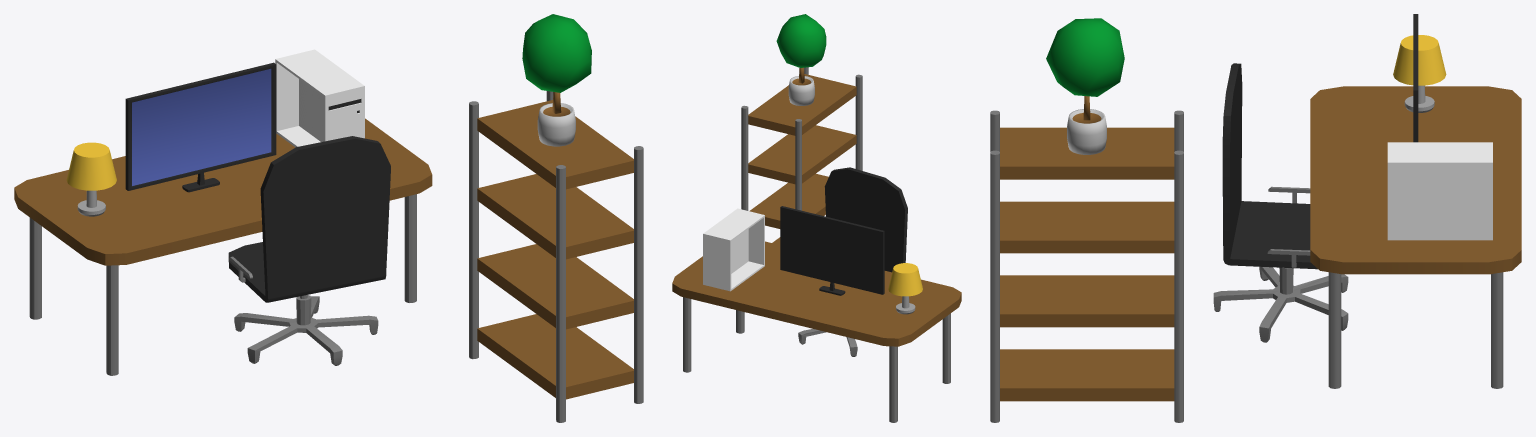
The model's file is computer table.fbx.
3 views of the same model, side by side, from view 1: azimuth 30°, elevation 25°; view 2: azimuth 150°, elevation 25°; view 3: azimuth 270°, elevation 25° (orthographic). The views are drawn at different scales.
Parts seen in each view (by area): view 1: computer table, Computer shelf, tree; view 2: computer table, Computer shelf, tree; view 3: computer table, Computer shelf, tree.
Part boxes in pixels (box(x1,y1,x2,y2)): computer table: box(14, 49, 432, 375); Computer shelf: box(469, 91, 643, 422); tree: box(522, 14, 591, 146); computer table: box(672, 167, 961, 422); Computer shelf: box(741, 67, 862, 244); tree: box(776, 14, 826, 105); computer table: box(1213, 14, 1521, 388); Computer shelf: box(990, 110, 1183, 422); tree: box(1046, 18, 1124, 154).
Size of the model in its own units: 0.5566 by 0.4896 by 0.6204.
Materials: 1 (1 with a texture image).
